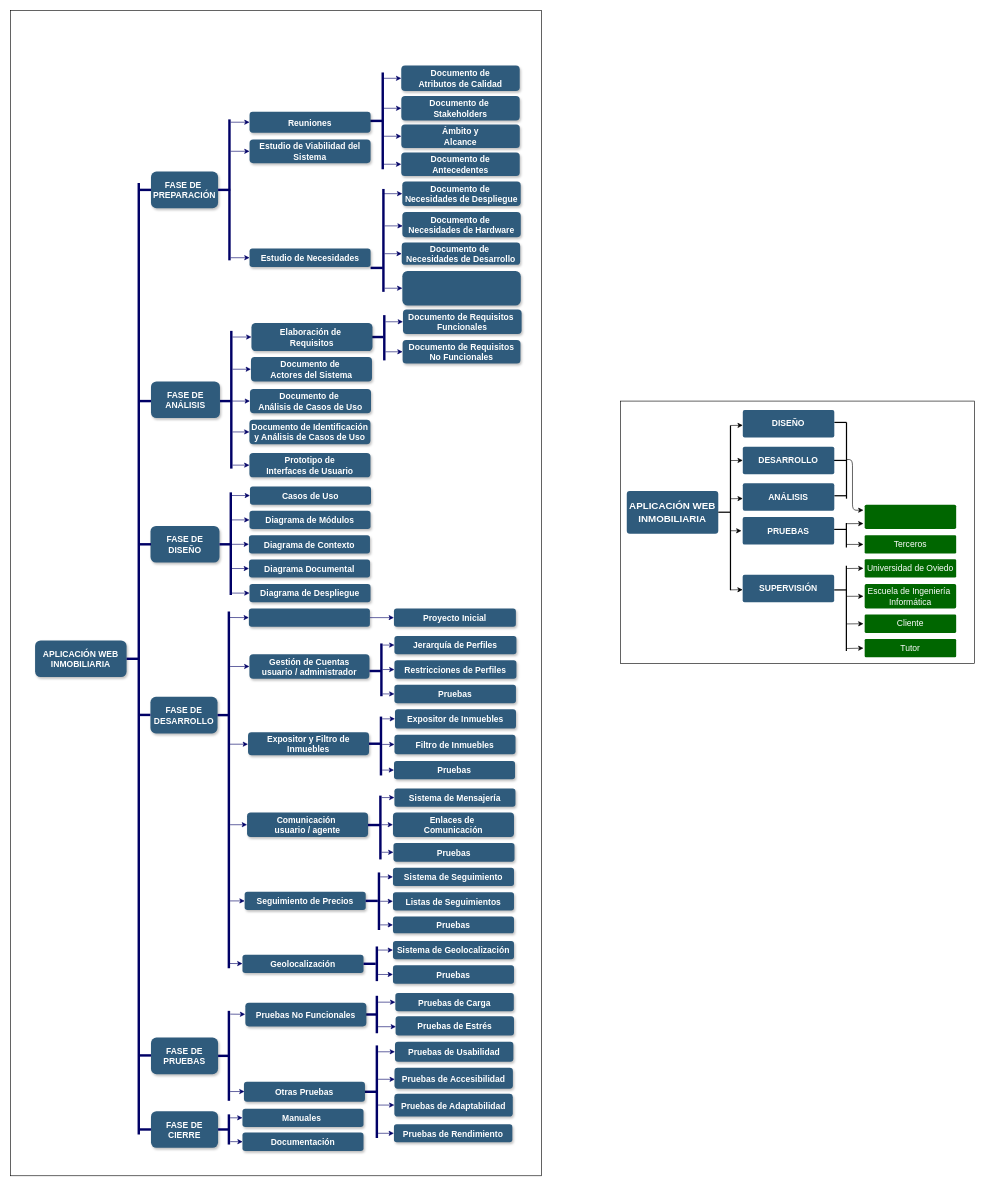
Some shapes in this 985 by 1186 pixel diagram are drawn without their labels. Here are the shapes that lost their labels. From the top down, the centre of each, then its label:
[462,288]: Documento de Necesidades de Almacenamiento
[910,516]: Carlos Gómez Colmenero
[309,618]: Preparación
